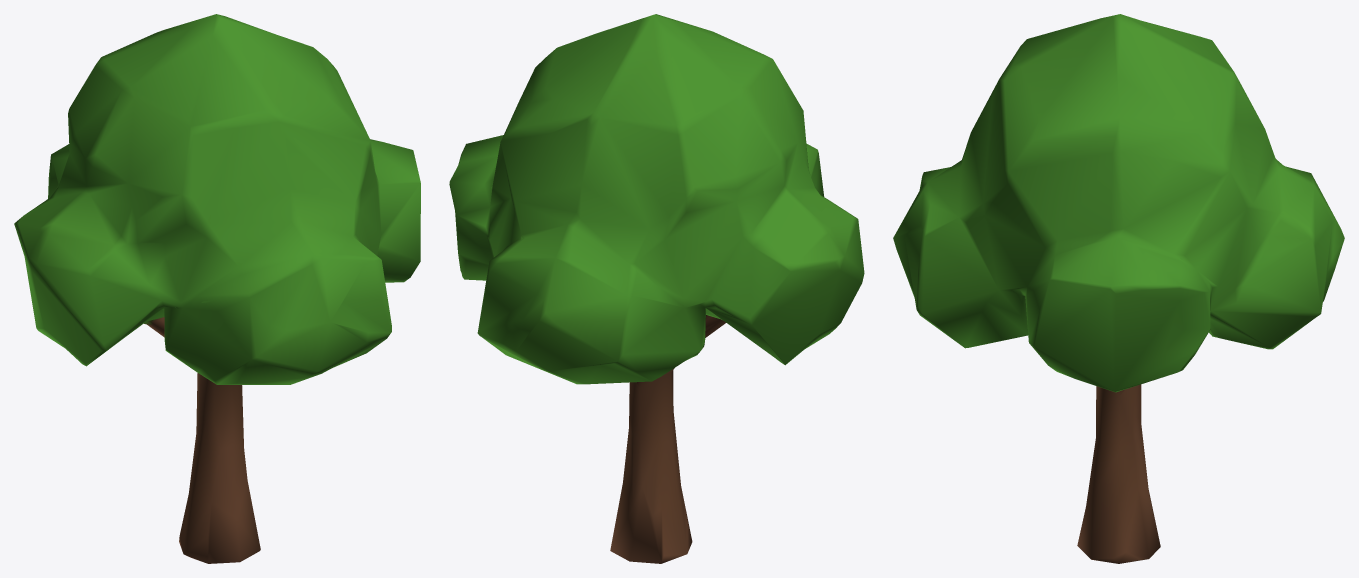
File: gen3d-street-tree-lod1.glb
3 renders of one model, left to right at view 1: azimuth 30°, elevation 25°; view 2: azimuth 150°, elevation 25°; view 3: azimuth 270°, elevation 25°, orthographic.
Visible parts, largest first — view 1: part_0; view 2: part_0; view 3: part_0.
Boxes of the visible parts, x1,y1,x2,y2 form: part_0: (14,14,420,563); part_0: (449,14,864,563); part_0: (893,14,1344,563).
Size of the model in its own units: 0.7431 by 0.9998 by 0.7693.
